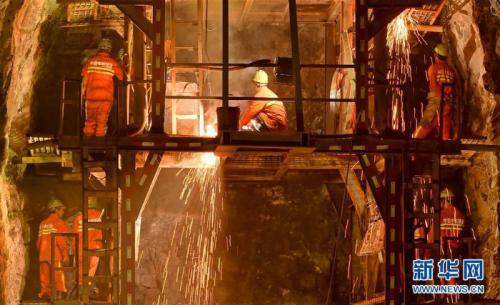helmet: (429, 41, 453, 65), (252, 65, 271, 91), (93, 35, 115, 56), (439, 183, 456, 209), (47, 197, 68, 218)
